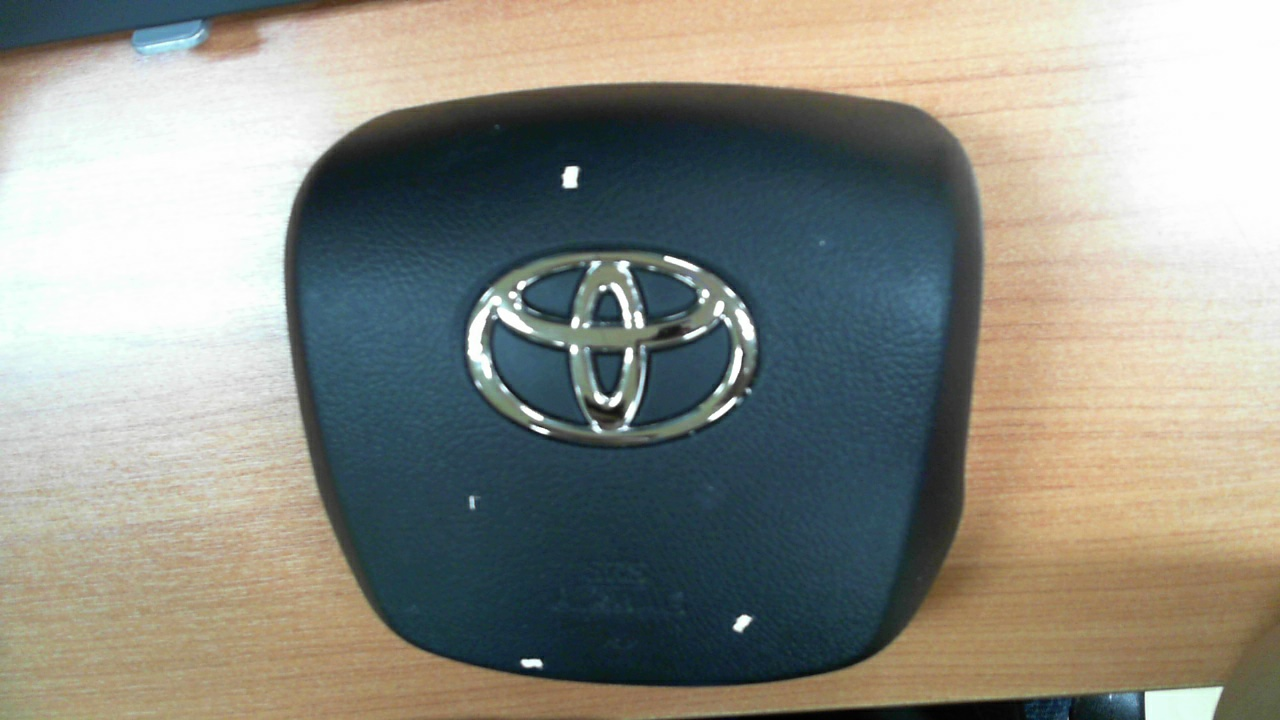Airbag: (284, 83, 984, 685)
Mark: (561, 166, 580, 189), (732, 614, 752, 633), (520, 658, 544, 668), (469, 495, 476, 511)
